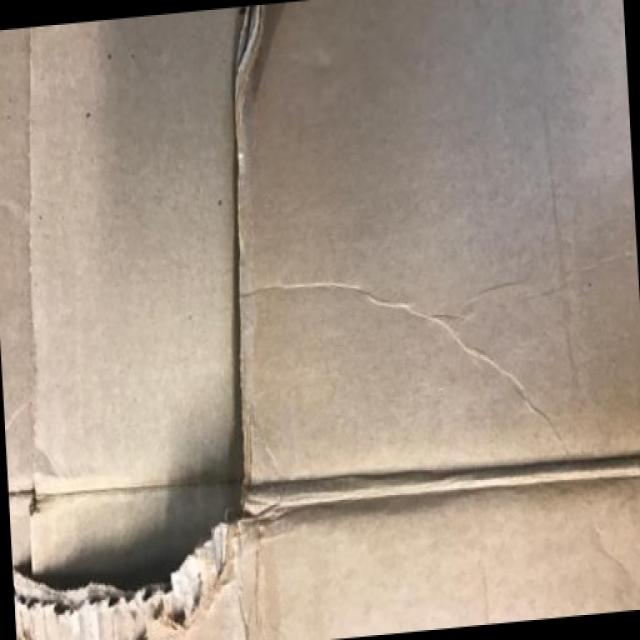carton: (1, 4, 631, 617)
